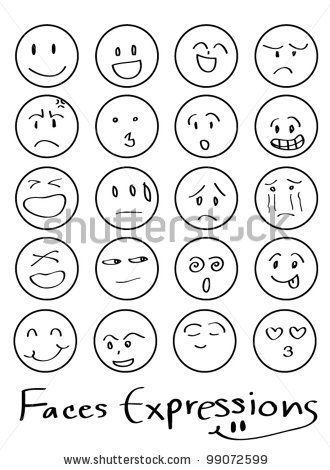feliz: (91, 24, 168, 100), (173, 18, 243, 92), (16, 27, 83, 90), (28, 43, 69, 77)
